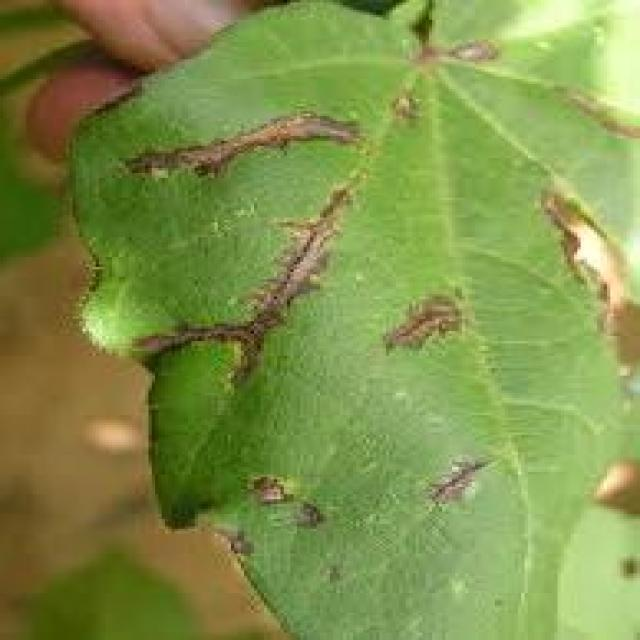Bacterial Blight: (148, 98, 450, 473)
